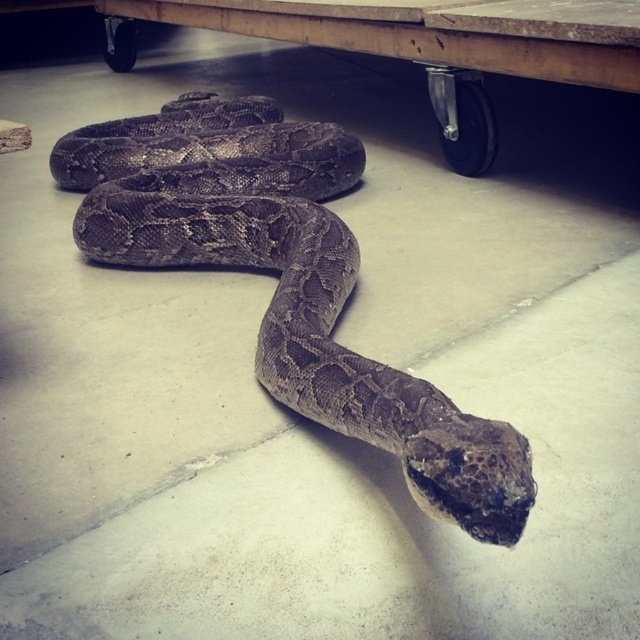Snake: (47, 89, 541, 548)
